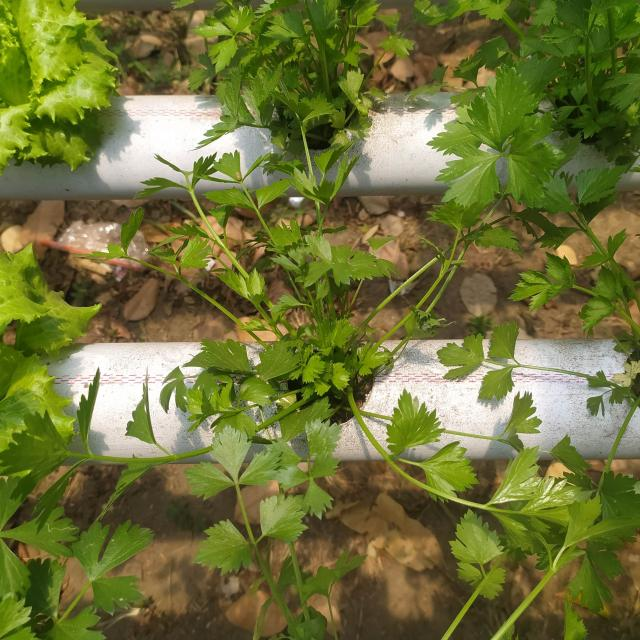Wet Waste: (126, 147, 628, 492), (9, 242, 108, 451)
